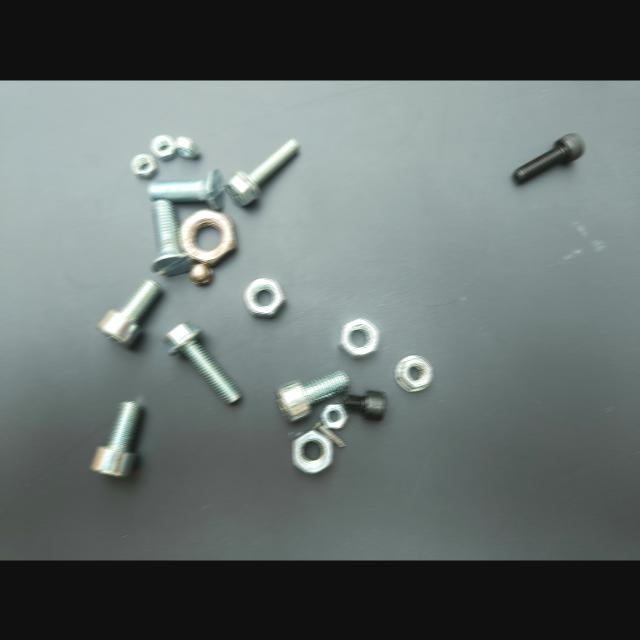bolt: (163, 322, 240, 404), (224, 138, 299, 206), (97, 279, 162, 347), (90, 401, 142, 477), (512, 133, 584, 184), (275, 371, 348, 421), (151, 199, 193, 276), (148, 169, 225, 209), (340, 390, 385, 420), (313, 418, 344, 447)
nuts: (178, 210, 237, 266), (292, 429, 332, 473), (243, 278, 285, 317), (338, 318, 378, 358), (395, 355, 432, 391), (131, 154, 158, 179), (321, 403, 347, 428), (151, 135, 176, 161), (188, 261, 213, 286), (173, 136, 200, 159)
